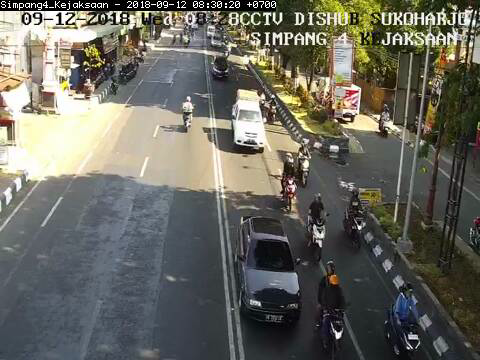motor: (315, 256, 351, 359), (384, 280, 426, 360), (304, 190, 333, 263), (343, 185, 367, 251), (280, 151, 298, 212), (295, 138, 314, 186), (268, 96, 277, 124)
